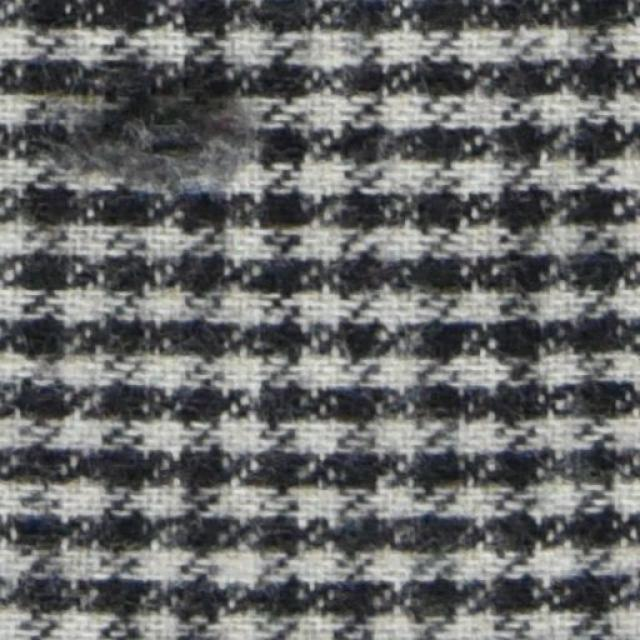Snag: (34, 83, 259, 203)
